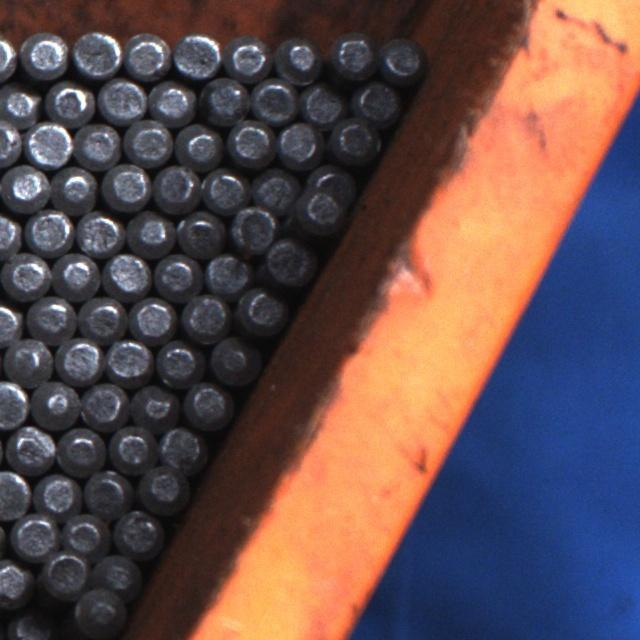tool: (294, 171, 351, 232), (70, 586, 126, 638), (261, 236, 315, 288), (207, 334, 258, 386), (236, 284, 287, 335), (150, 162, 200, 212), (330, 114, 380, 164), (175, 209, 226, 258), (5, 423, 55, 472), (56, 425, 105, 475), (30, 378, 79, 428), (112, 507, 162, 556), (180, 292, 229, 341), (275, 119, 324, 168), (11, 511, 60, 560), (172, 31, 221, 80), (182, 381, 231, 430), (203, 249, 253, 297), (228, 205, 278, 253), (2, 335, 52, 383), (136, 462, 184, 512), (329, 30, 377, 80), (98, 75, 146, 124), (1, 162, 49, 211), (80, 379, 129, 427), (122, 31, 170, 80), (72, 29, 121, 77), (39, 550, 88, 598), (124, 117, 172, 165), (26, 292, 74, 340), (1, 251, 49, 299), (125, 209, 173, 257), (82, 467, 130, 515), (250, 166, 298, 214), (52, 251, 101, 298), (102, 161, 149, 210), (226, 119, 273, 167), (200, 167, 248, 214), (55, 336, 102, 384), (249, 77, 297, 124), (199, 76, 247, 123), (45, 79, 93, 126), (147, 78, 195, 125), (301, 80, 348, 128), (224, 32, 271, 80), (21, 30, 68, 78), (353, 78, 401, 125), (157, 424, 205, 471), (74, 120, 121, 167), (78, 293, 125, 340), (104, 336, 151, 383), (128, 295, 176, 341), (177, 122, 225, 168), (26, 119, 72, 167), (110, 422, 156, 470), (152, 252, 200, 298), (52, 162, 98, 210), (277, 34, 323, 82), (379, 35, 425, 83), (25, 207, 72, 253), (33, 471, 80, 517), (75, 210, 122, 256), (61, 510, 107, 557), (154, 338, 200, 385), (132, 381, 179, 426), (104, 250, 150, 295), (92, 550, 140, 593), (0, 80, 41, 126), (0, 559, 33, 609), (6, 608, 54, 640), (0, 469, 29, 519), (0, 379, 29, 429), (0, 114, 22, 164), (0, 299, 23, 345), (0, 209, 21, 255)
